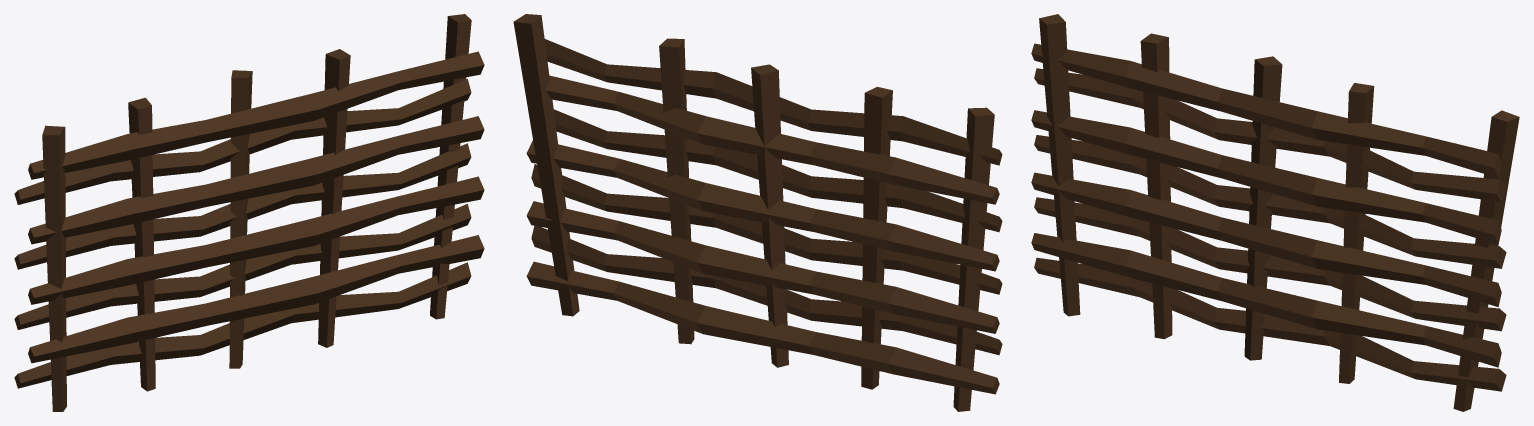
The model's file is Tribal_Plains_Fishing_Trap_Wood_Reed_Wall_01.fbx.
3 views of the same model, side by side, from view 1: azimuth 30°, elevation 25°; view 2: azimuth 150°, elevation 25°; view 3: azimuth 330°, elevation 25° (orthographic). The views are drawn at different scales.
Visible parts, largest first — view 1: Tribal_Plains_Fishing_Trap_Wood_Reed_Wall_01; view 2: Tribal_Plains_Fishing_Trap_Wood_Reed_Wall_01; view 3: Tribal_Plains_Fishing_Trap_Wood_Reed_Wall_01.
Part boxes in pixels (box(x1,y1,x2,y2)): Tribal_Plains_Fishing_Trap_Wood_Reed_Wall_01: box(14, 14, 484, 411); Tribal_Plains_Fishing_Trap_Wood_Reed_Wall_01: box(513, 14, 1002, 411); Tribal_Plains_Fishing_Trap_Wood_Reed_Wall_01: box(1031, 14, 1519, 411).
Size of the model in its own units: 1.5 by 0.8997 by 0.1585.
